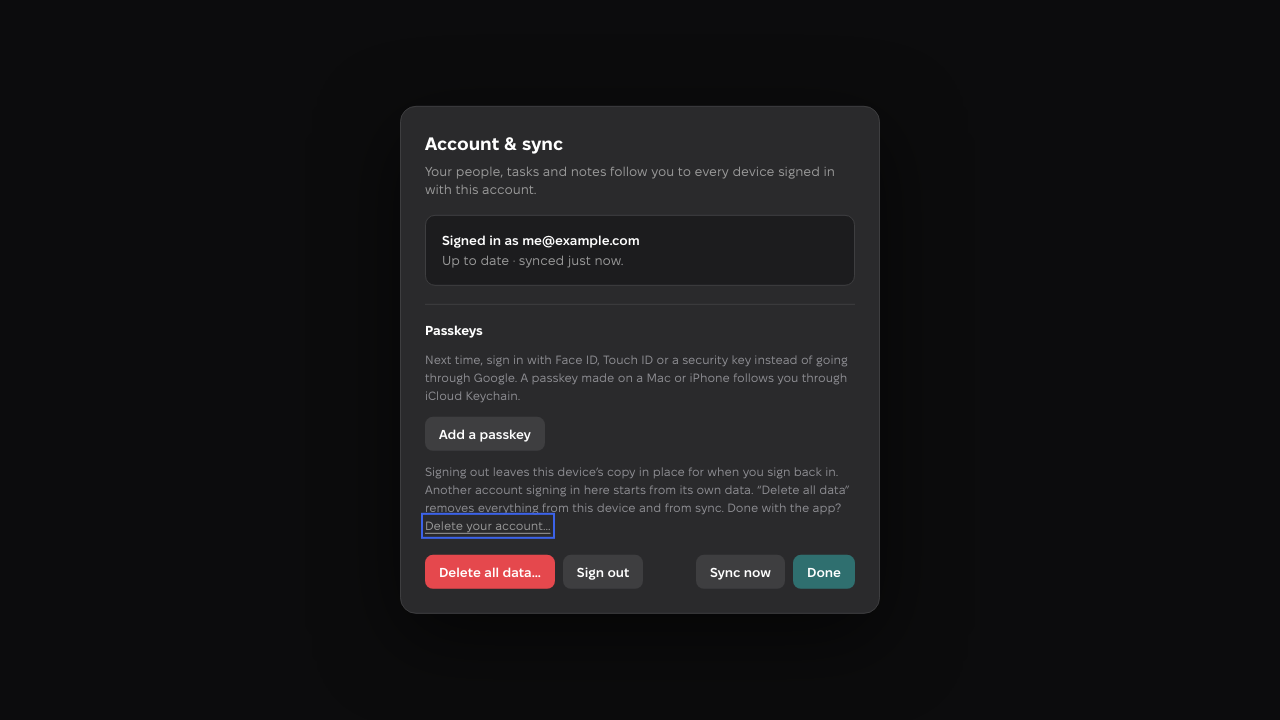
Test case: SyncDialog › says why when a passkey cannot be added
Click the button "Add a passkey": (485, 434) [425,417,545,451]
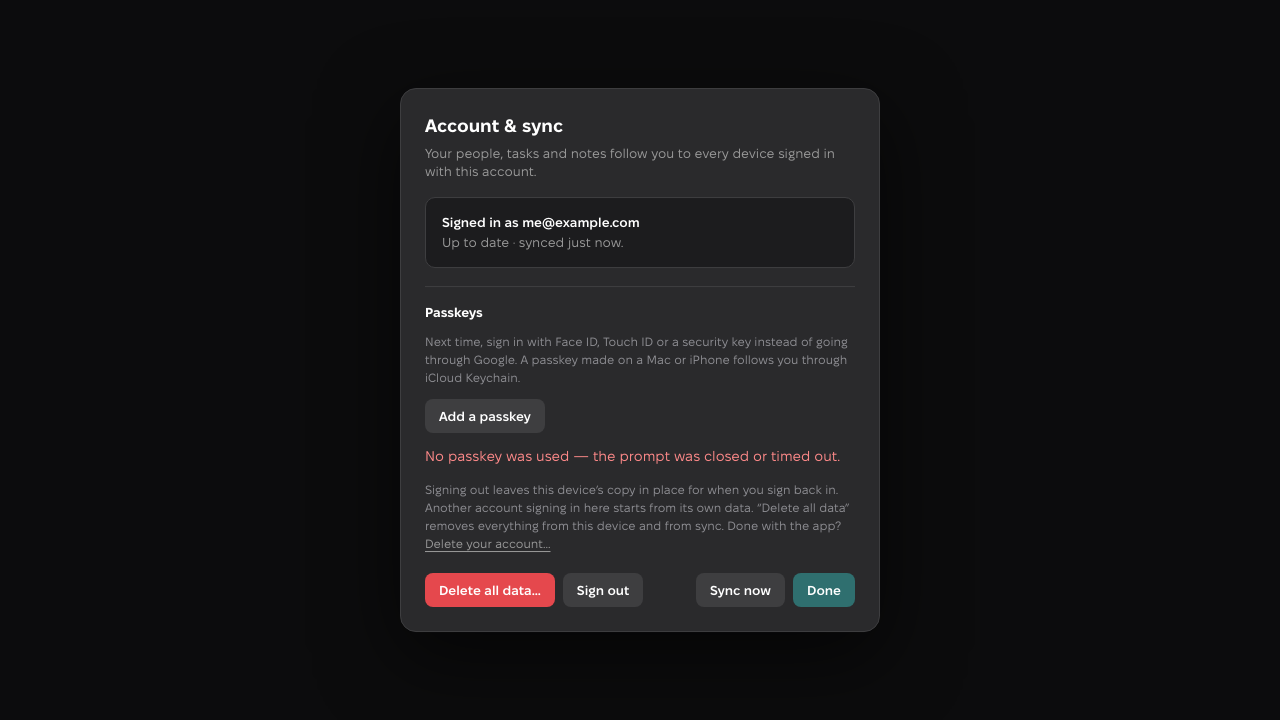
Expected: the text "No passkey was used — the prompt was closed or timed out." is shown, [425,447,855,467]
